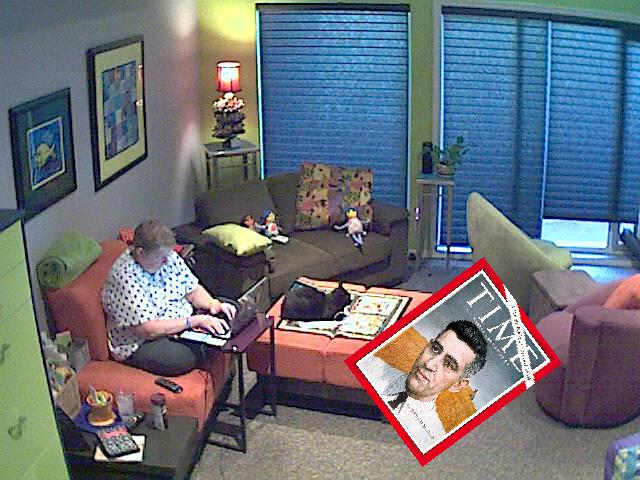times: (339, 257, 566, 468)
